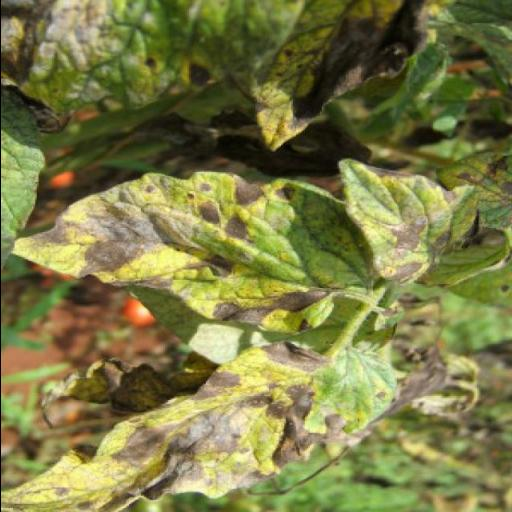Early Blight: (0, 334, 402, 512), (10, 172, 358, 336)
